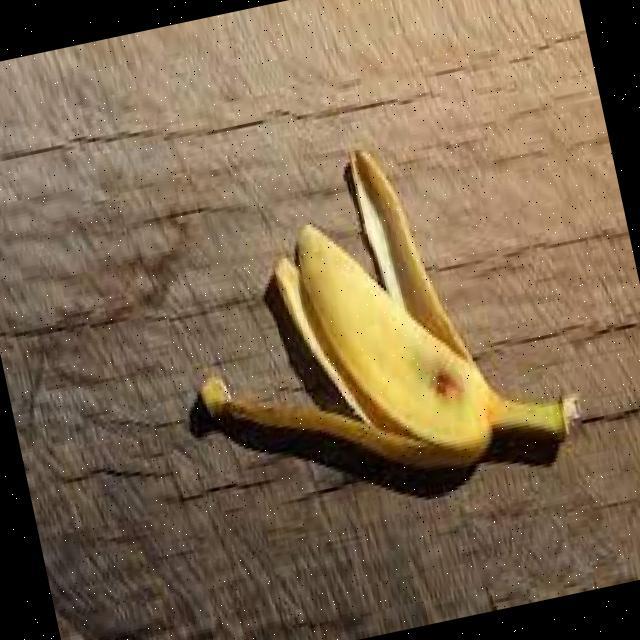banana-peel: (136, 112, 593, 546)
